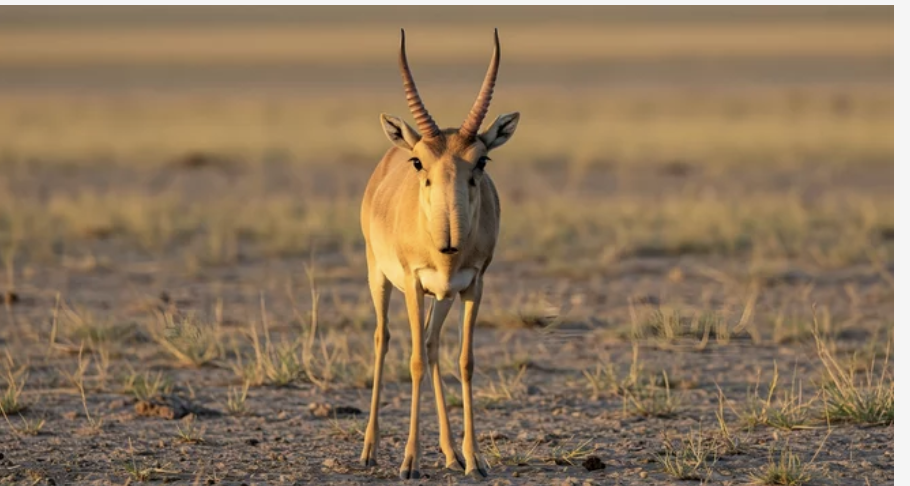saiga: (296, 7, 564, 435)
